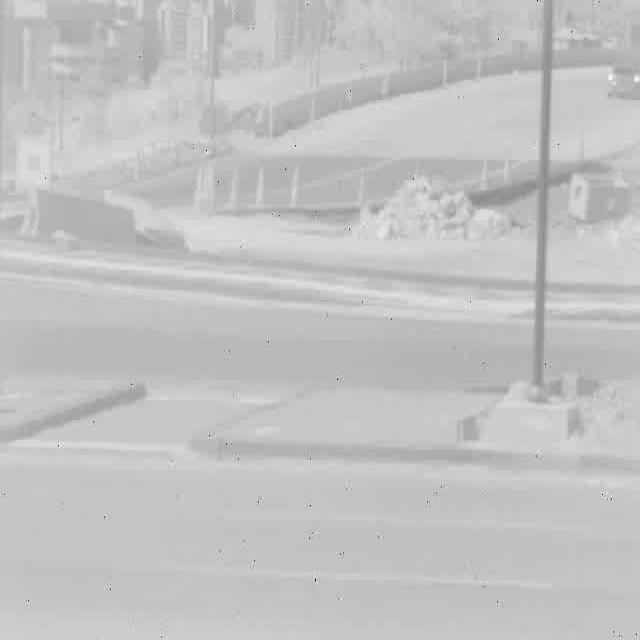Car: (607, 64, 640, 100)
